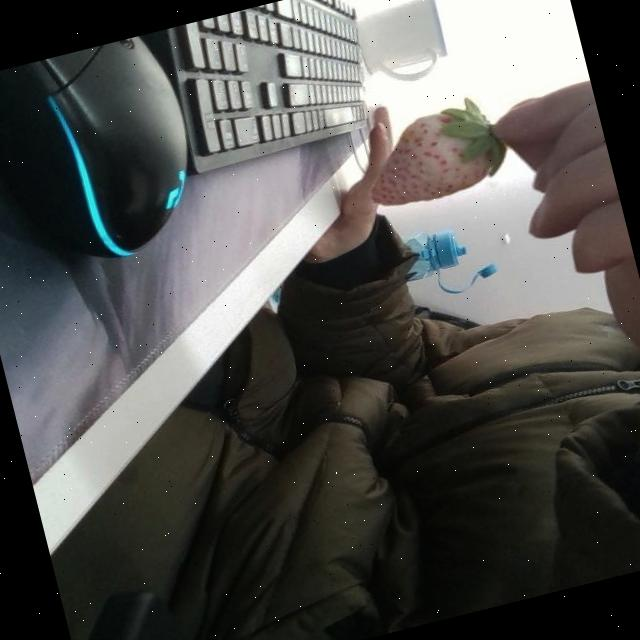strawberry: (353, 98, 512, 214)
